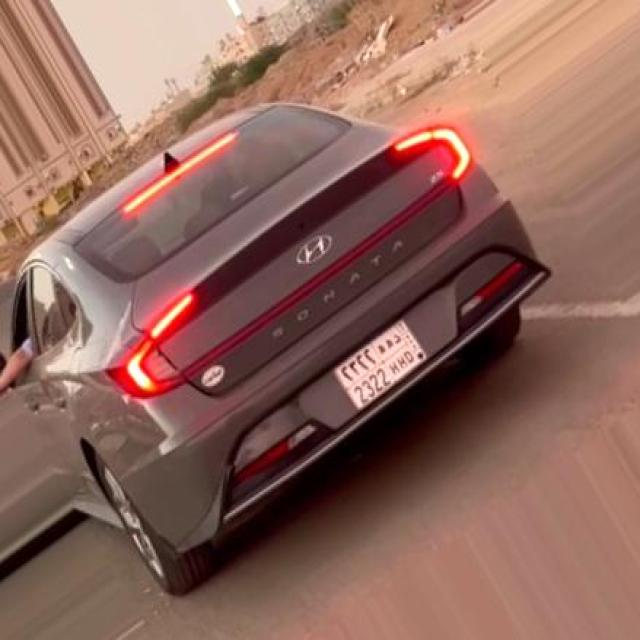Car-plate: (331, 307, 444, 424)
